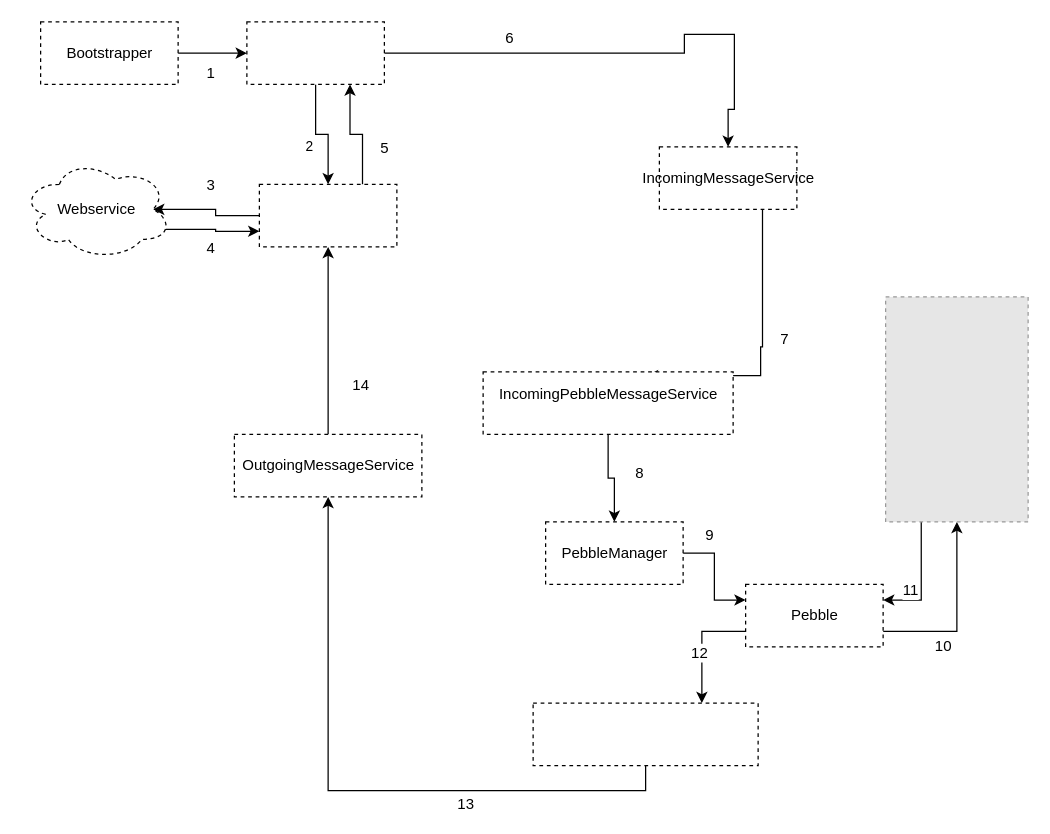
Some shapes in this 1050 by 834 pixel diagram are drawn without their labels. Grey dashed boxes stand in for pictures. Here are the shapes that lost their labels. From the top down, the centre of each, then its label:
(315,52): MessagingService
(327,215): WebserviceClient
(645,734): OutgoingPebbleMessageService
